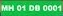character: (1, 4, 8, 11), (8, 4, 14, 11), (28, 4, 34, 11), (16, 4, 21, 11), (34, 4, 39, 11), (42, 4, 47, 11), (52, 4, 57, 11), (57, 4, 61, 12), (48, 4, 52, 11), (21, 4, 25, 10)
